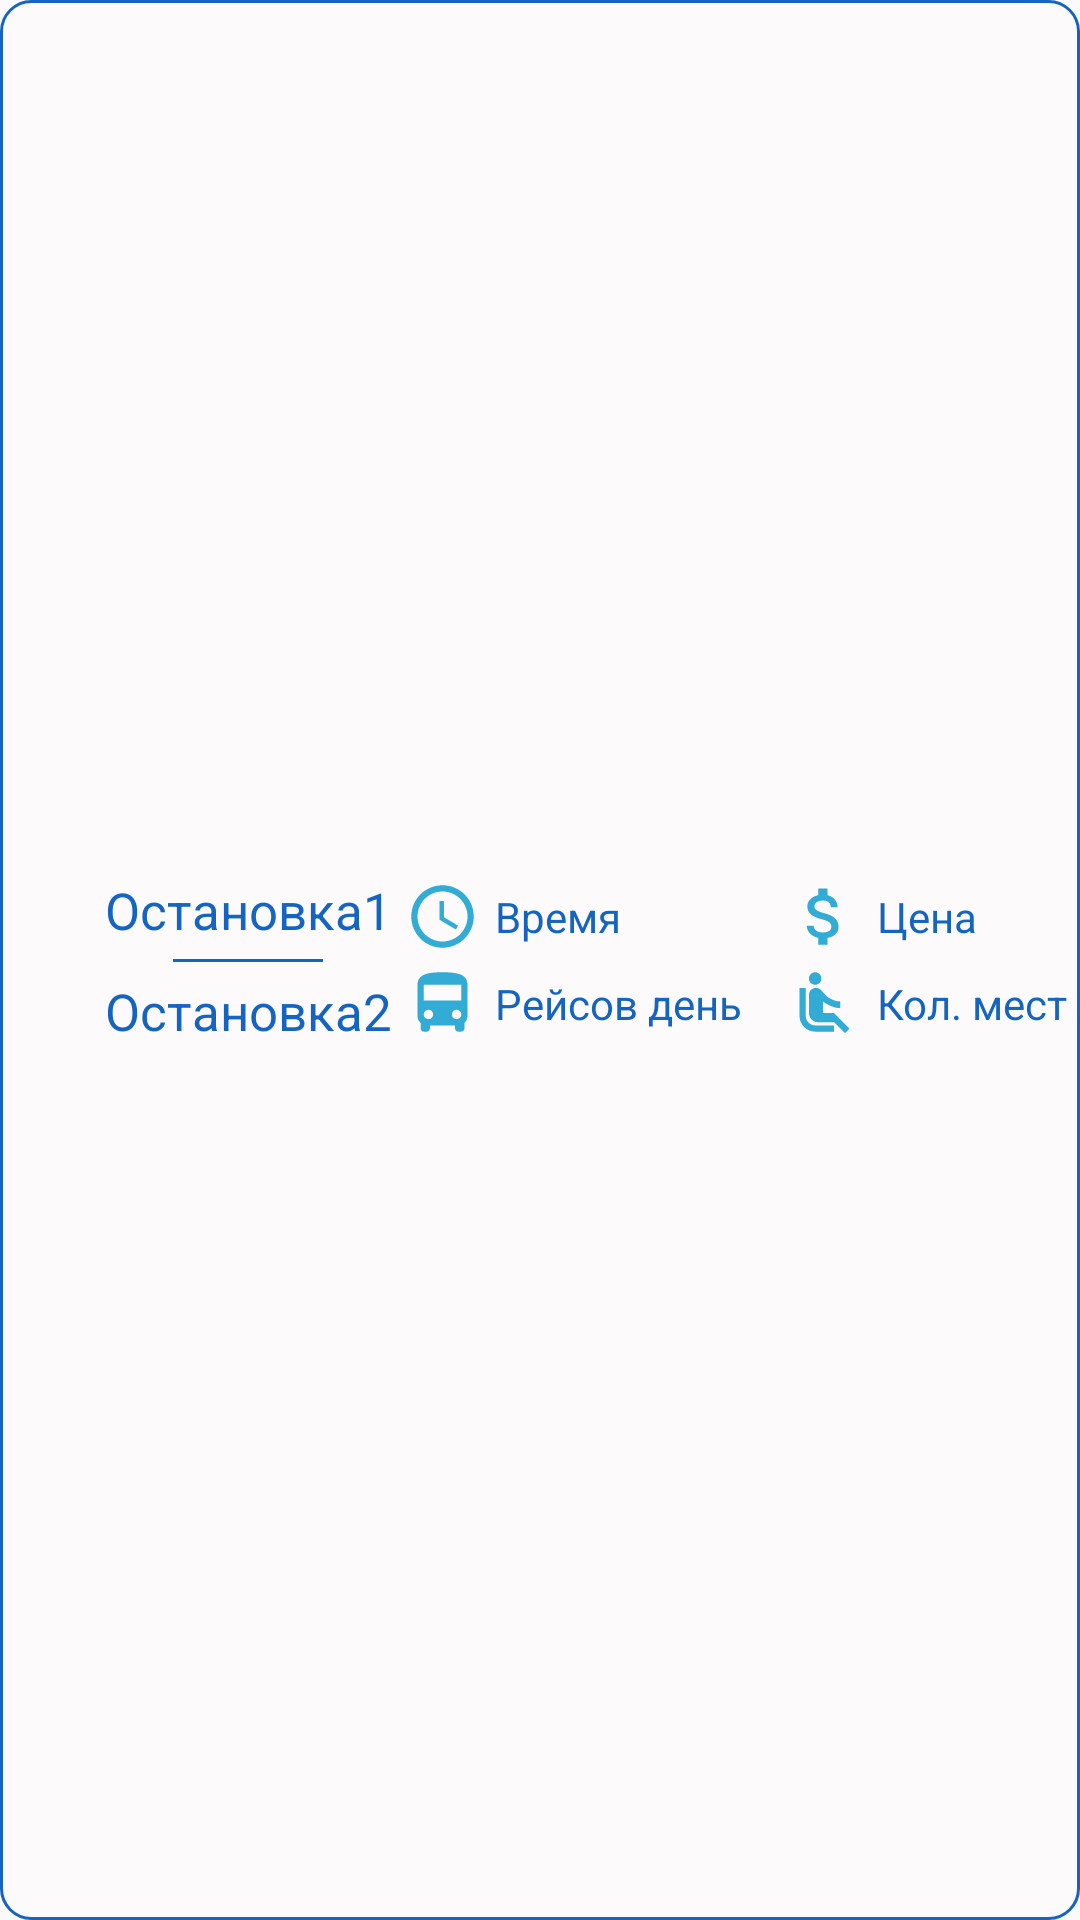

Where to tap for icons on this 1080x1920 app screen, as (x,y):
bus: (442,1002)
money: (822,916)
seat: (824,1002)
time: (442,916)
